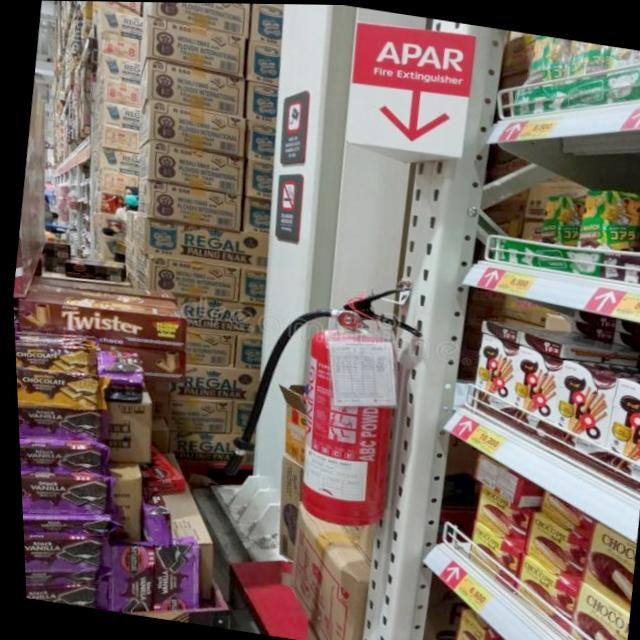FireExtinguisher: (205, 256, 440, 539)
